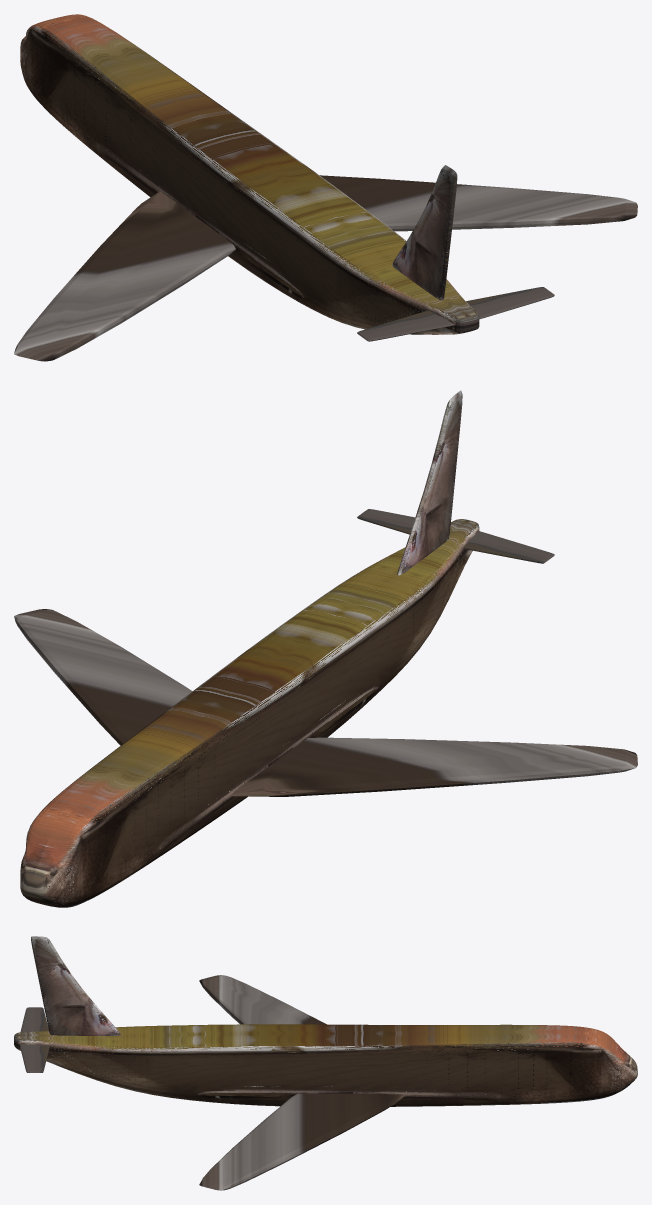
Rendered from Airplane.glb.
3 renders of one model, top to bottom at view 1: azimuth 30°, elevation 25°; view 2: azimuth 150°, elevation 25°; view 3: azimuth 270°, elevation 25°, orthographic. The views are drawn at different scales.
Visible parts, largest first — view 1: Node; view 2: Node; view 3: Node.
Boxes of the visible parts, x1,y1,x2,y2 form: Node: (14, 14, 637, 361); Node: (14, 390, 637, 907); Node: (14, 936, 637, 1190).
Bounding box in the file's own units: 1.64 × 0.5762 × 2.
1 material, 1 textured.
